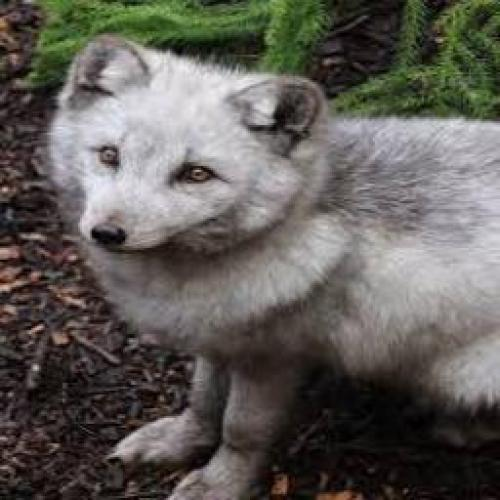arctic_fox-endangered: (51, 31, 500, 500)
